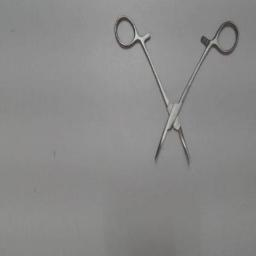Crile Artery Forceps: (107, 11, 241, 169)
